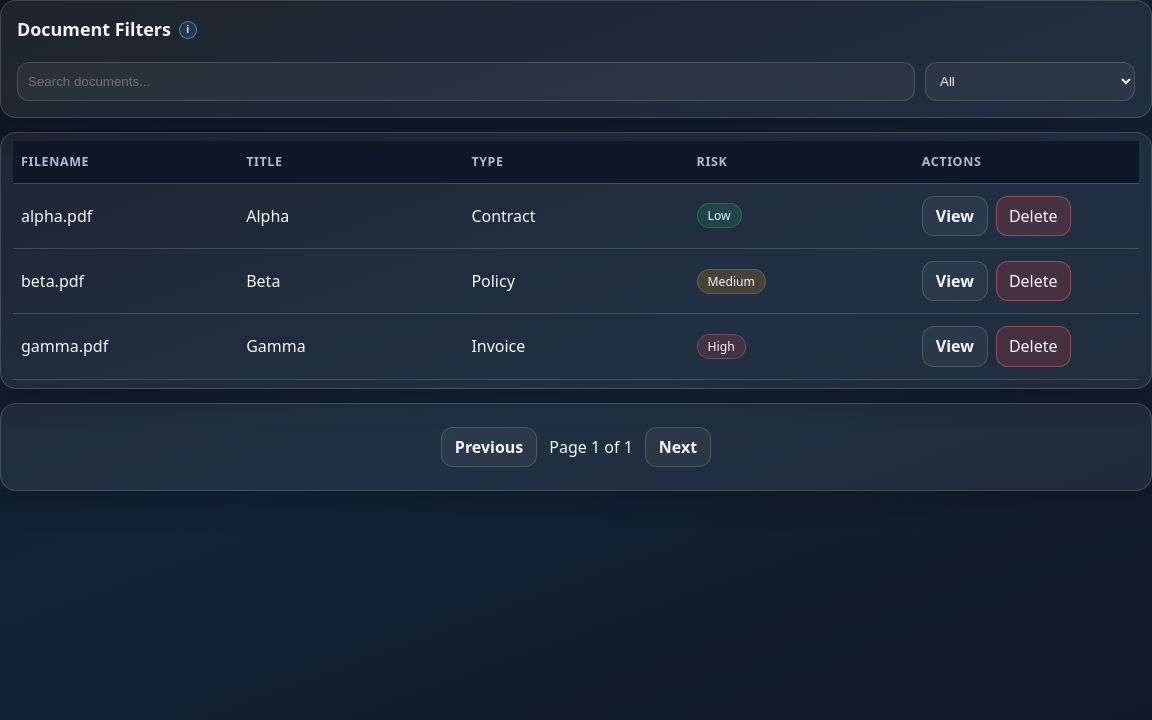
Test: Documents page › filters by query and risk
In the field labelled "Search documents...": (466, 82) [17, 62, 915, 101], type "beta"
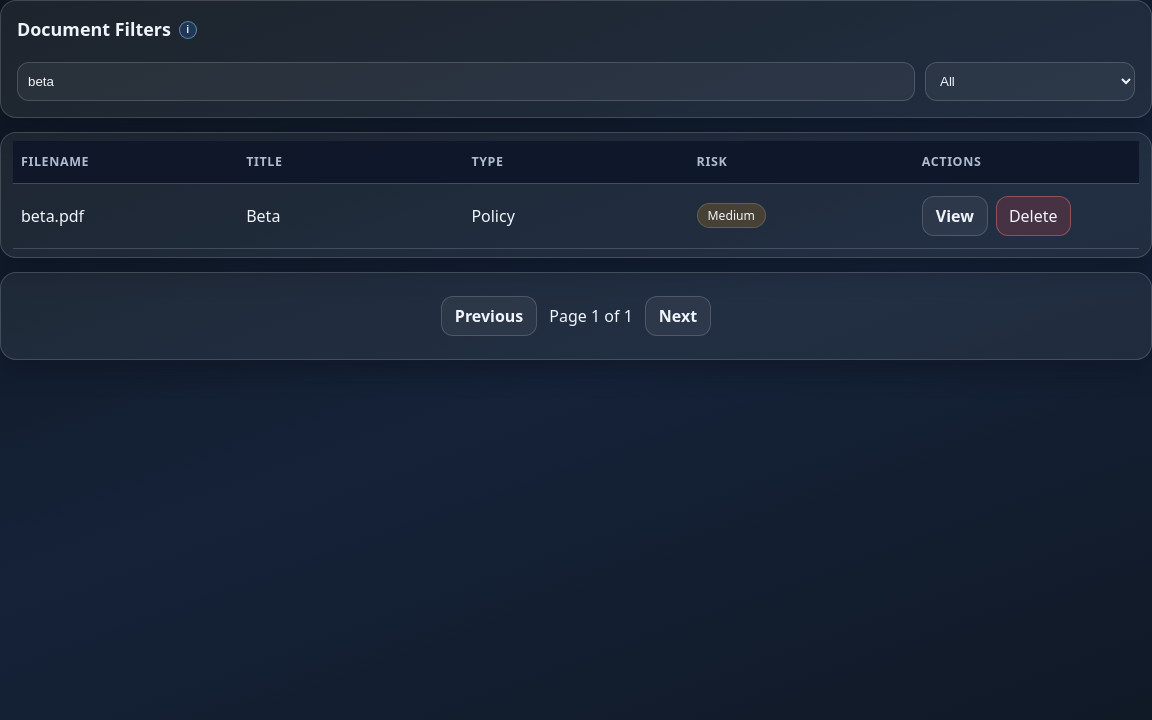
Expected: the text "beta.pdf" is shown, [13, 184, 238, 248]
Expected: the text "alpha.pdf" is gone
Select "High" in the dropdown named "Filter by risk": (1030, 82) [925, 62, 1135, 101]
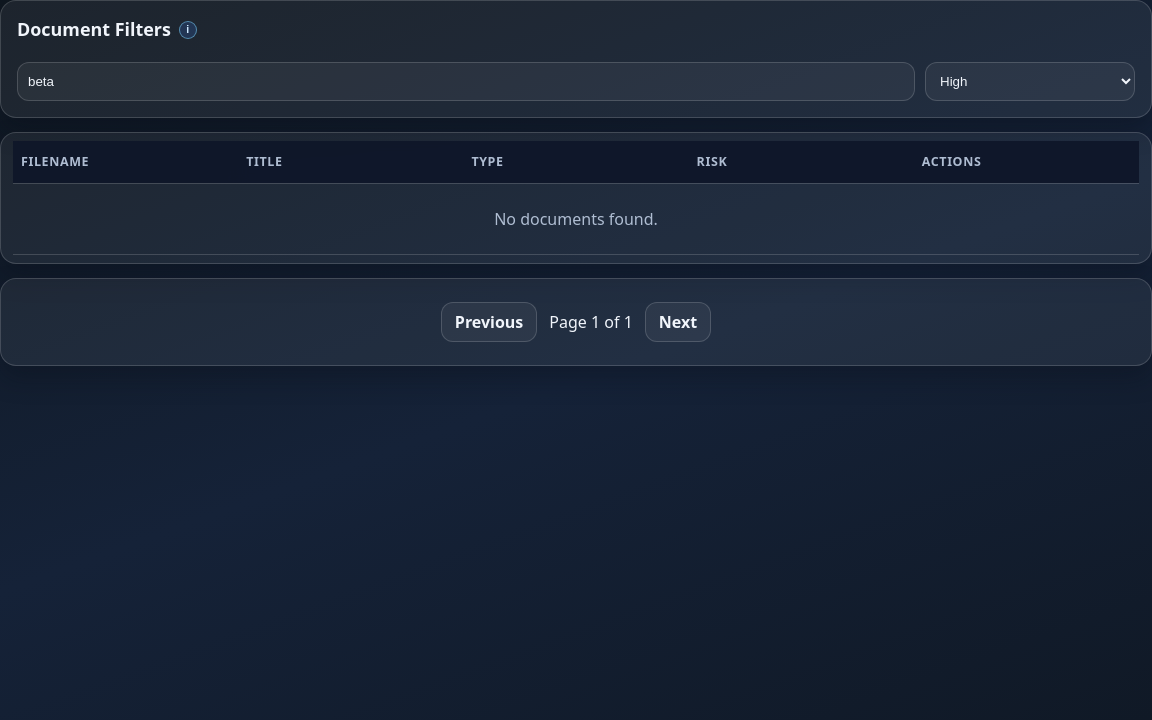
Expected: the text "No documents found." is shown, [13, 184, 1139, 254]
